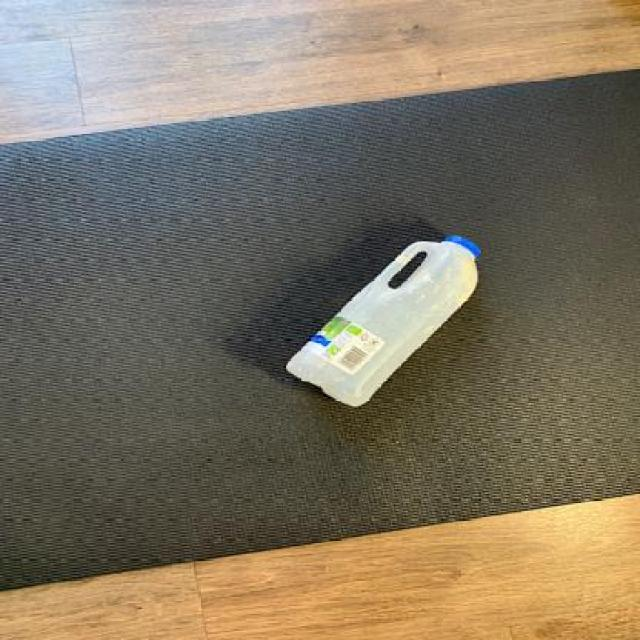trash: (288, 229, 483, 411)
